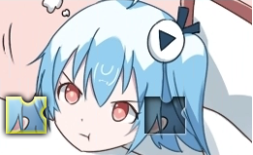gap: (144, 95, 185, 134)
